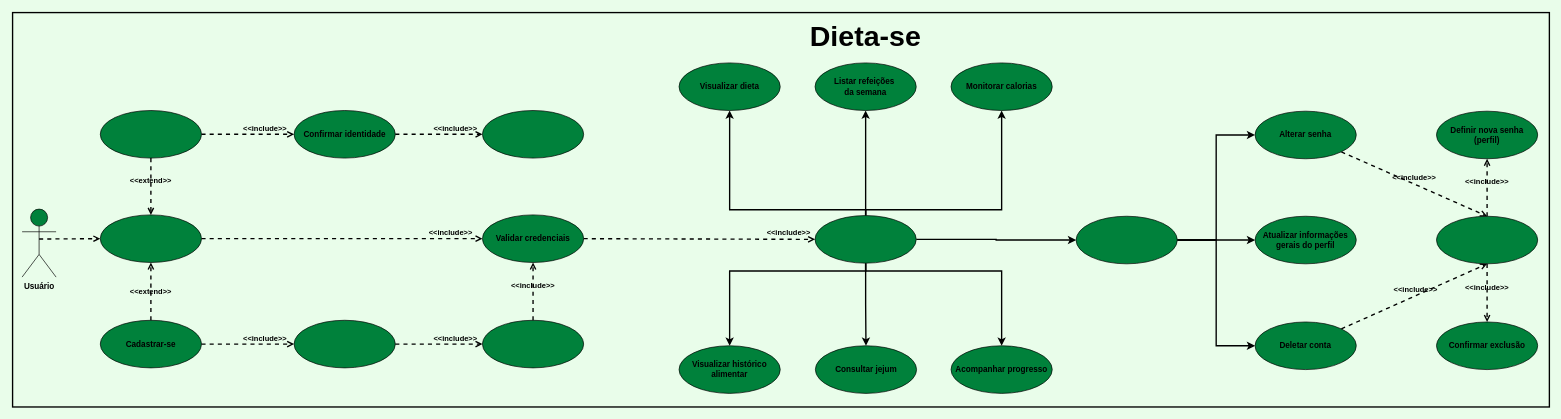
Image size: 1561x419. Some labels were removed from this diagram. Here are the shapes that lost their labels. From the top down, the centre of each, then its label:
point (150, 134): Recuperar senha
point (533, 134): Definir nova senha (recuperação)
point (150, 238): Efetuar login
point (865, 239): Entrar na tela inicial do aplicativo
point (1126, 240): Editar perfil
point (1487, 240): Validar senha atual
point (344, 344): Preencher formulário inicial
point (533, 344): Criar perfil
